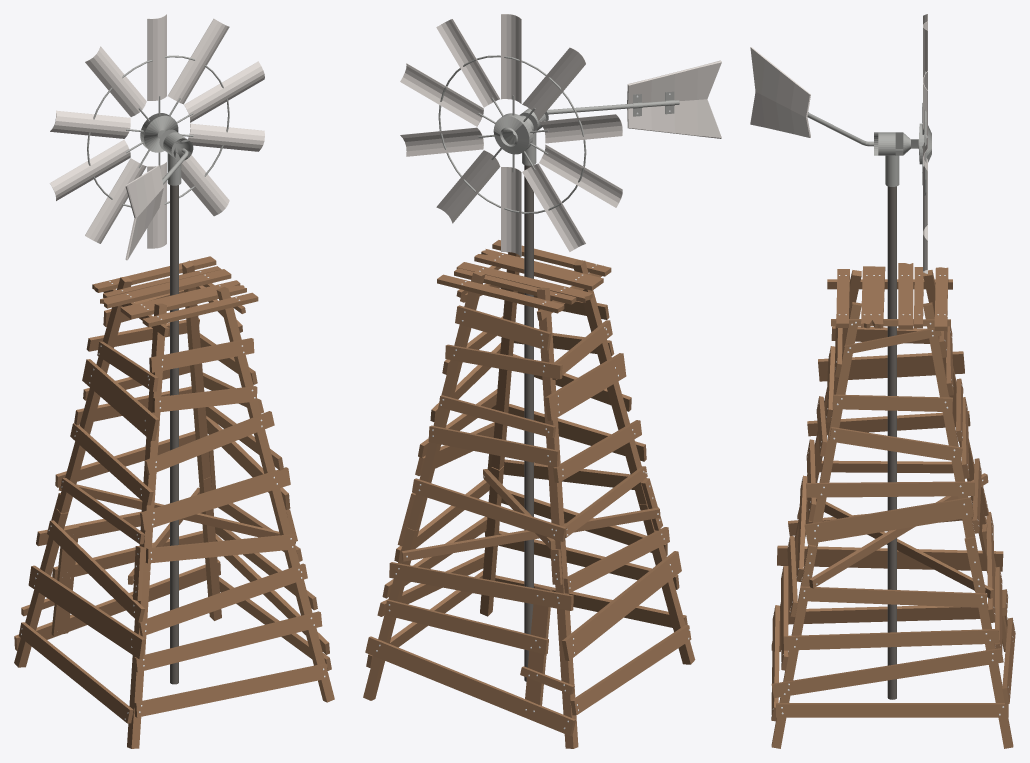
The model's file is uploads_files_2511777_WINDMILL.fbx.
The picture shows the model from 3 angles, left to right: view 1: azimuth 30°, elevation 25°; view 2: azimuth 150°, elevation 25°; view 3: azimuth 270°, elevation 25°; orthographic projection. The views are drawn at different scales.
Visible parts, largest first — view 1: Лопасти, Объект_Цилиндр, Объект_Куб_7, Объект_Куб_18, Объект_Куб_33, Объект_Куб_13, Объект_Куб_19, Объект_Куб_31, Объект_Куб_8, Объект_Куб_32, Объект_Куб_5, Объект_Куб_37 (+35 smaller); view 2: Лопасти, Объект_Куб_49, Объект_Куб_6, Объект_Цилиндр, Объект_Куб_12, Объект_Куб_13, Объект_Куб_48, Объект_Куб_26, Объект_Куб_47, Объект_Куб_10, Объект_Куб_27, Объект_Куб_5 (+37 smaller); view 3: Объект_Цилиндр, Объект_Куб_15, Объект_Куб_49, Объект_Куб_34, Объект_Куб_4, Объект_Куб_16, Объект_Куб_17, Объект_Куб_13, Объект_Куб_35, Объект_Куб_5, Объект_Куб_37, Объект_Куб_36 (+35 smaller).
Part boxes in pixels (bbox=[...]): Лопасти: bbox=[50, 14, 264, 248]; Объект_Цилиндр: bbox=[170, 185, 178, 684]; Объект_Куб_7: bbox=[134, 663, 327, 717]; Объект_Куб_18: bbox=[134, 611, 322, 672]; Объект_Куб_33: bbox=[140, 467, 290, 530]; Объект_Куб_13: bbox=[28, 565, 145, 659]; Объект_Куб_19: bbox=[138, 563, 307, 636]; Объект_Куб_31: bbox=[145, 534, 295, 563]; Объект_Куб_8: bbox=[216, 286, 291, 535]; Объект_Куб_32: bbox=[144, 411, 274, 474]; Объект_Куб_5: bbox=[18, 622, 133, 723]; Объект_Куб_37: bbox=[82, 359, 159, 440]; Лопасти: bbox=[400, 14, 622, 256]; Объект_Куб_49: bbox=[627, 60, 721, 138]; Объект_Куб_6: bbox=[365, 636, 575, 735]; Объект_Цилиндр: bbox=[524, 165, 533, 681]; Объект_Куб_12: bbox=[389, 562, 573, 610]; Объект_Куб_13: bbox=[562, 551, 681, 660]; Объект_Куб_48: bbox=[385, 599, 548, 654]; Объект_Куб_26: bbox=[412, 478, 566, 541]; Объект_Куб_47: bbox=[401, 507, 660, 561]; Объект_Куб_10: bbox=[407, 271, 485, 530]; Объект_Куб_27: bbox=[428, 425, 559, 467]; Объект_Куб_5: bbox=[570, 625, 691, 715]; Объект_Цилиндр: bbox=[887, 186, 896, 699]; Объект_Куб_15: bbox=[771, 648, 1003, 698]; Объект_Куб_49: bbox=[750, 47, 810, 137]; Объект_Куб_34: bbox=[804, 497, 973, 543]; Объект_Куб_4: bbox=[776, 703, 1008, 717]; Объект_Куб_16: bbox=[783, 629, 999, 650]; Объект_Куб_17: bbox=[799, 586, 987, 607]; Объект_Куб_13: bbox=[777, 545, 1003, 571]; Объект_Куб_35: bbox=[806, 481, 974, 497]; Объект_Куб_5: bbox=[788, 604, 988, 624]; Объект_Куб_37: bbox=[818, 351, 964, 381]; Объект_Куб_36: bbox=[829, 427, 962, 461].
Bounding box in the file's own units: 574 × 1597 × 570.
